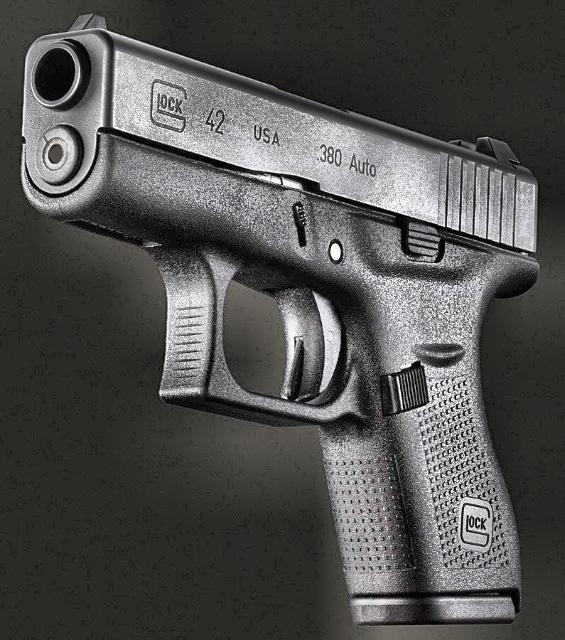pistol: (17, 10, 538, 622)
